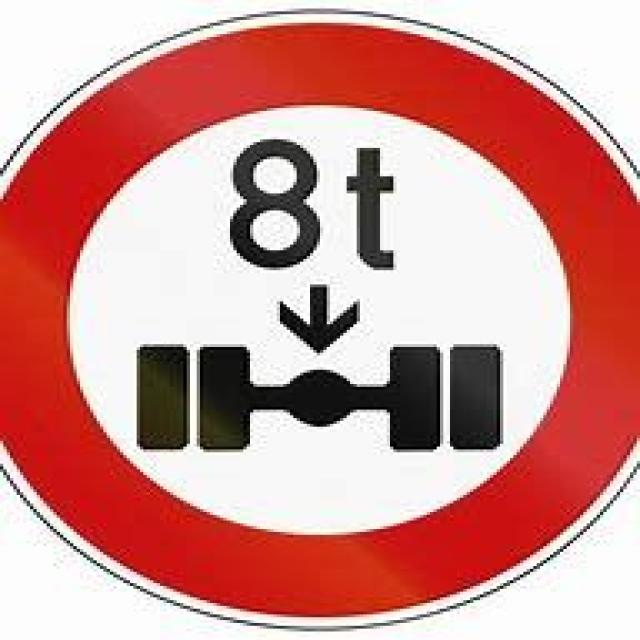AXLE_LOAD_LIMIT: (0, 10, 640, 627)
